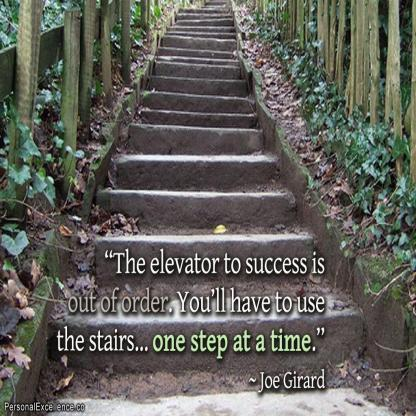stair: (105, 1, 303, 386)
